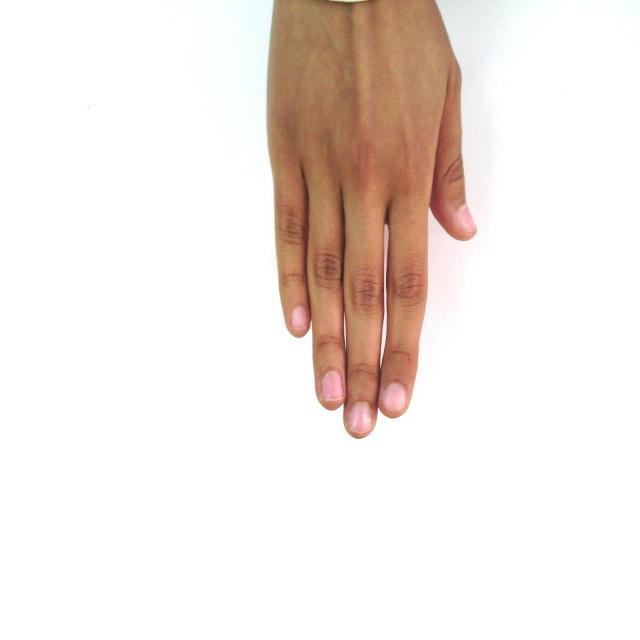Fingernail: (349, 403, 371, 432), (383, 382, 405, 410), (457, 205, 477, 234), (322, 371, 342, 399), (291, 307, 307, 332)
